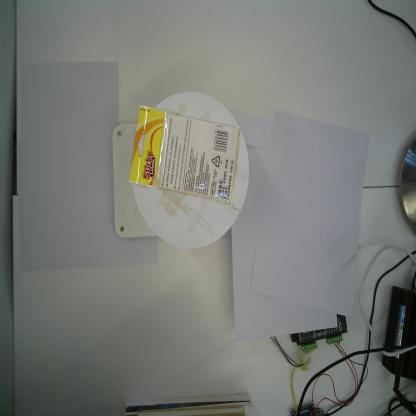Stationery: (127, 102, 242, 209)
